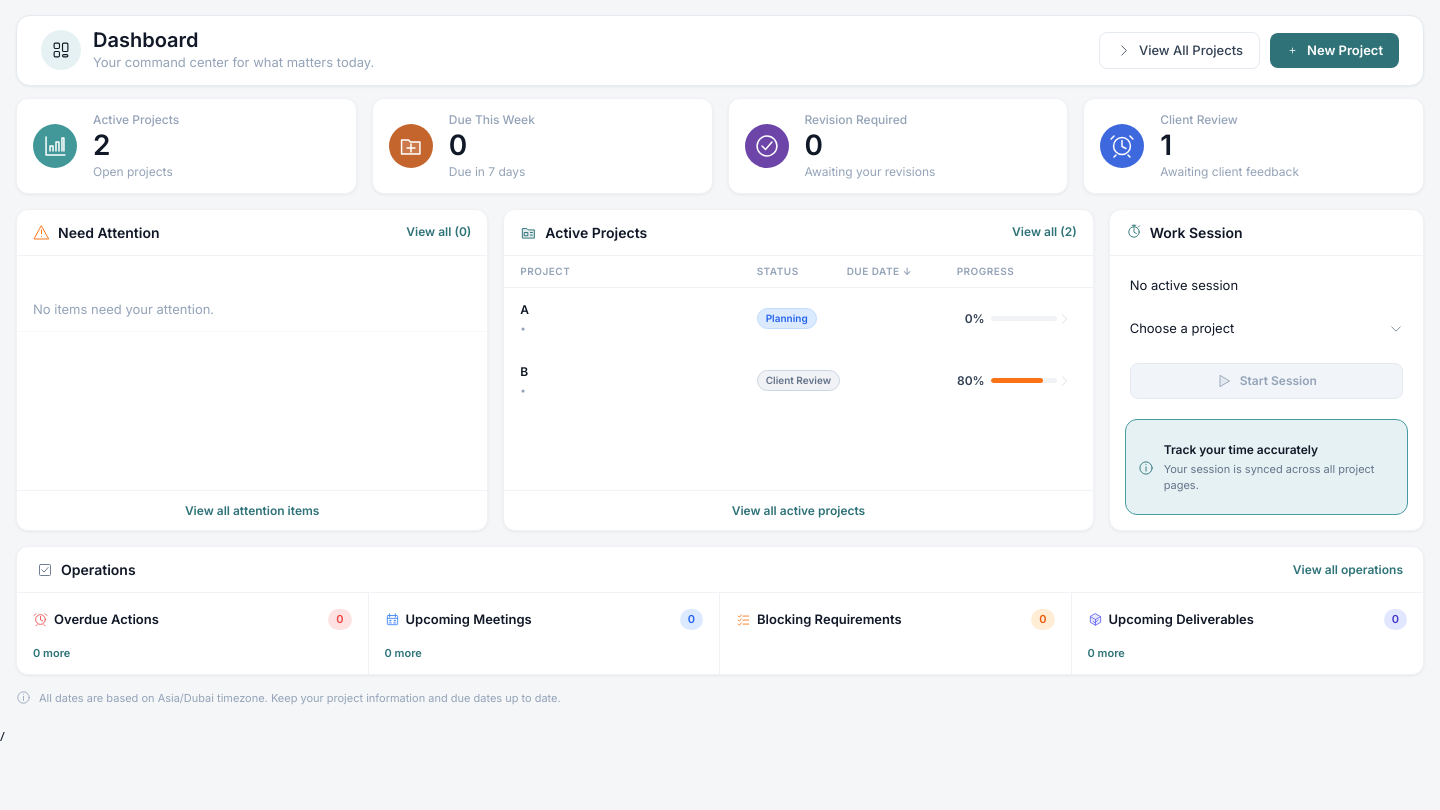
Test: opens the Overdue Actions group from its heading even when empty
Click the button "Overdue Actions".
click(106, 619)  # box [54,610,159,629]
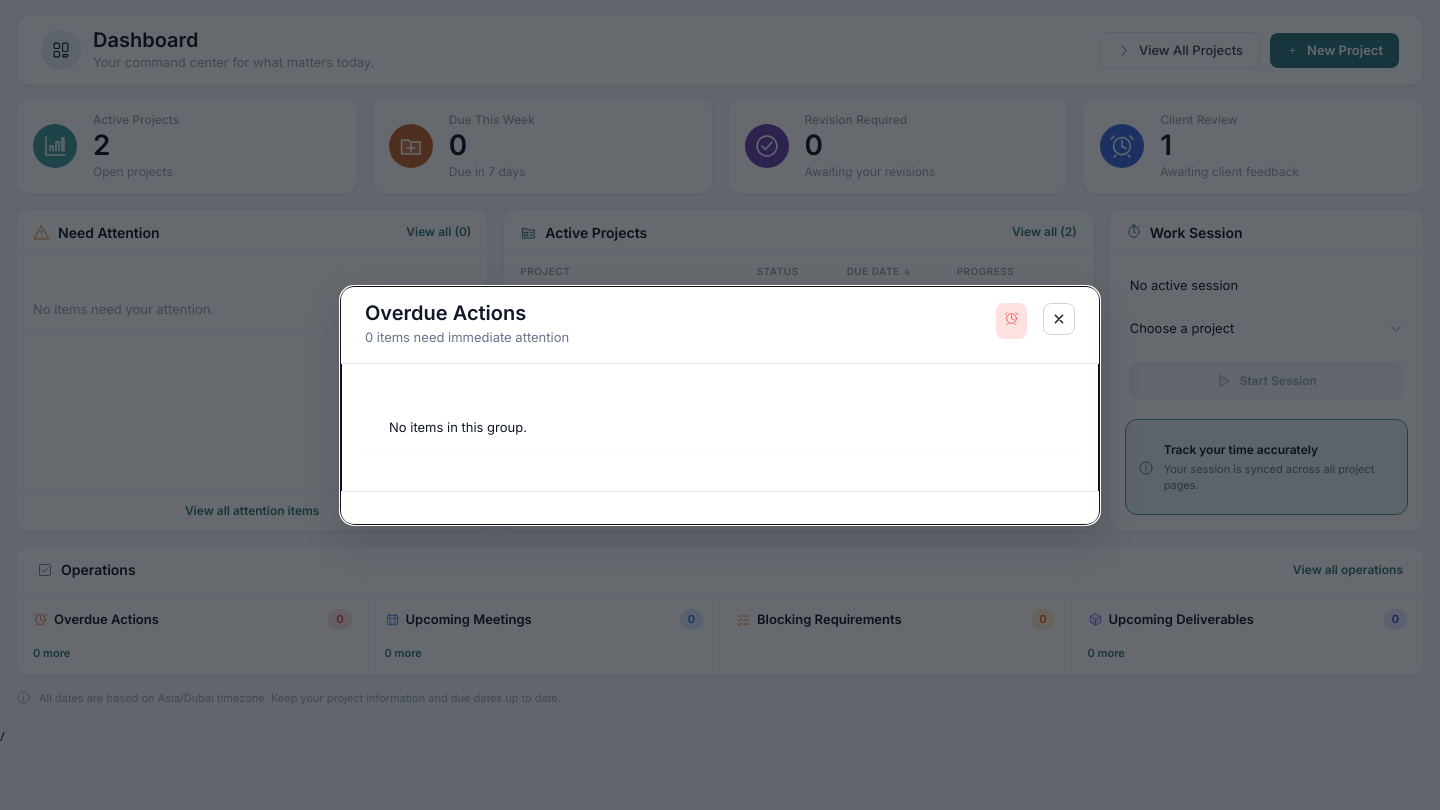
Check: the text "No items in this group." is shown, box [365,400,1075,454]
